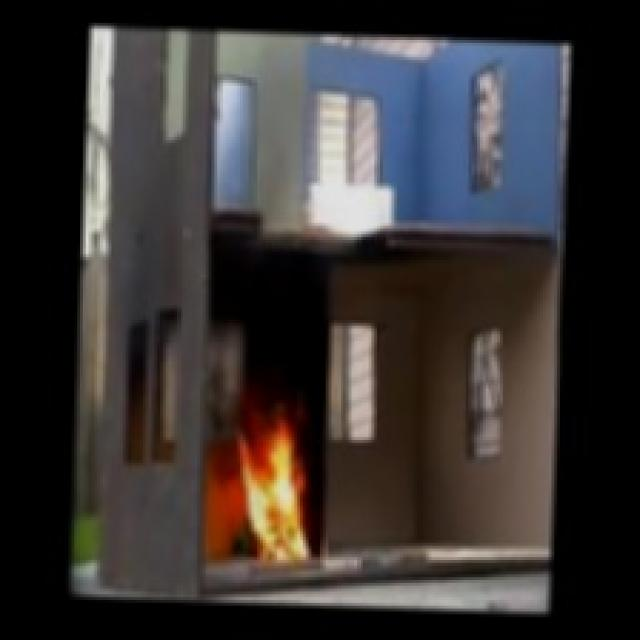fire: (230, 396, 319, 567)
